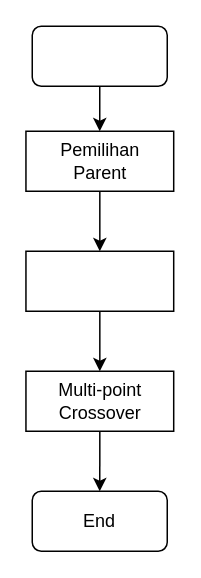
This 201x578 diagram has some shape labels left out. Here are the shapes that lost their labels. From the top down, the box of each, then its label:
(31, 25, 167, 86): Start
(24, 250, 174, 311): Pemilihan Pasangan
